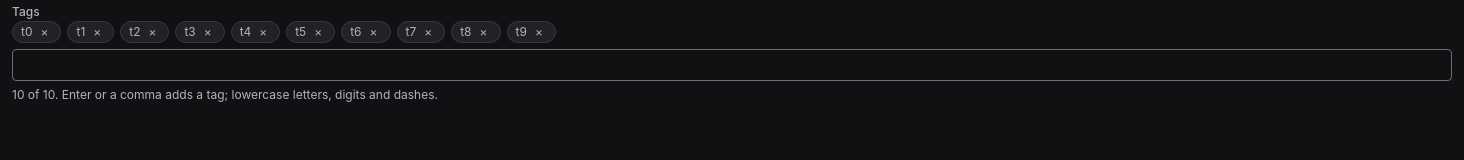
Test: the tag editor › refuses an eleventh tag with the sentence, and a duplicate
The image size is (1464, 160).
Step 1. Type "eleven" into the field labelled "Tags" → (732, 65), box [12,49,1452,81]
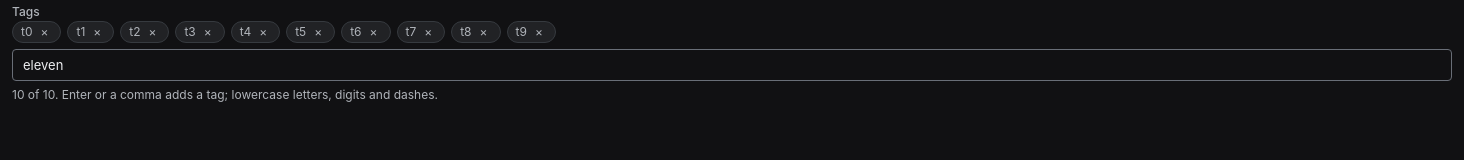
Step 2. Press Enter in the field labelled "Tags", box [12,49,1452,81]
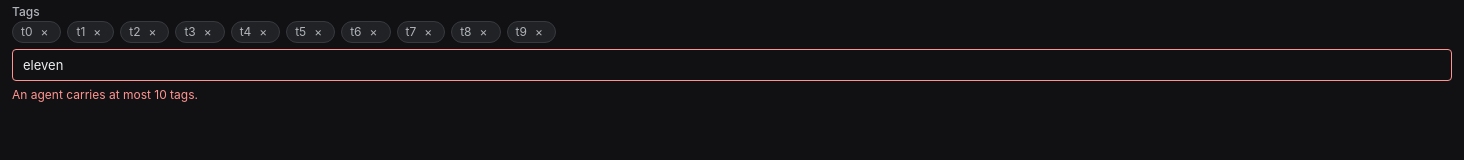
Result: the message shows "at most 10 tags" at [12,87,198,102]
Step 3. Replace the text in the field labelled "Tags" with "t1" → (732, 65), box [12,49,1452,81]
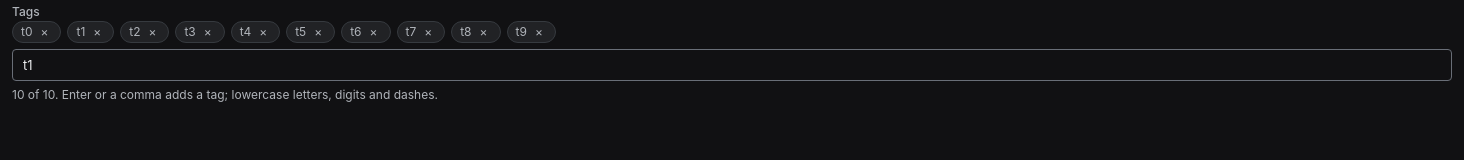
Step 4. Press Enter in the field labelled "Tags", box [12,49,1452,81]
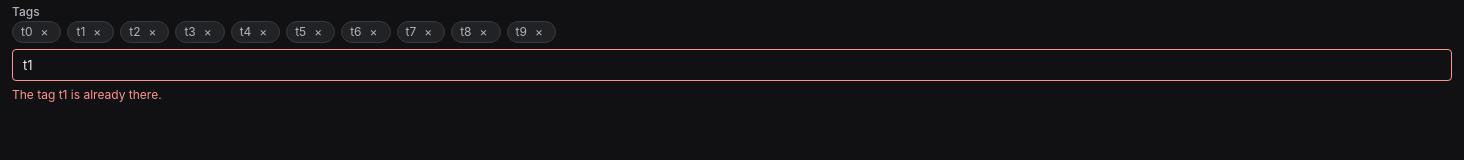
Result: the message shows "already there" at [12,87,162,102]
